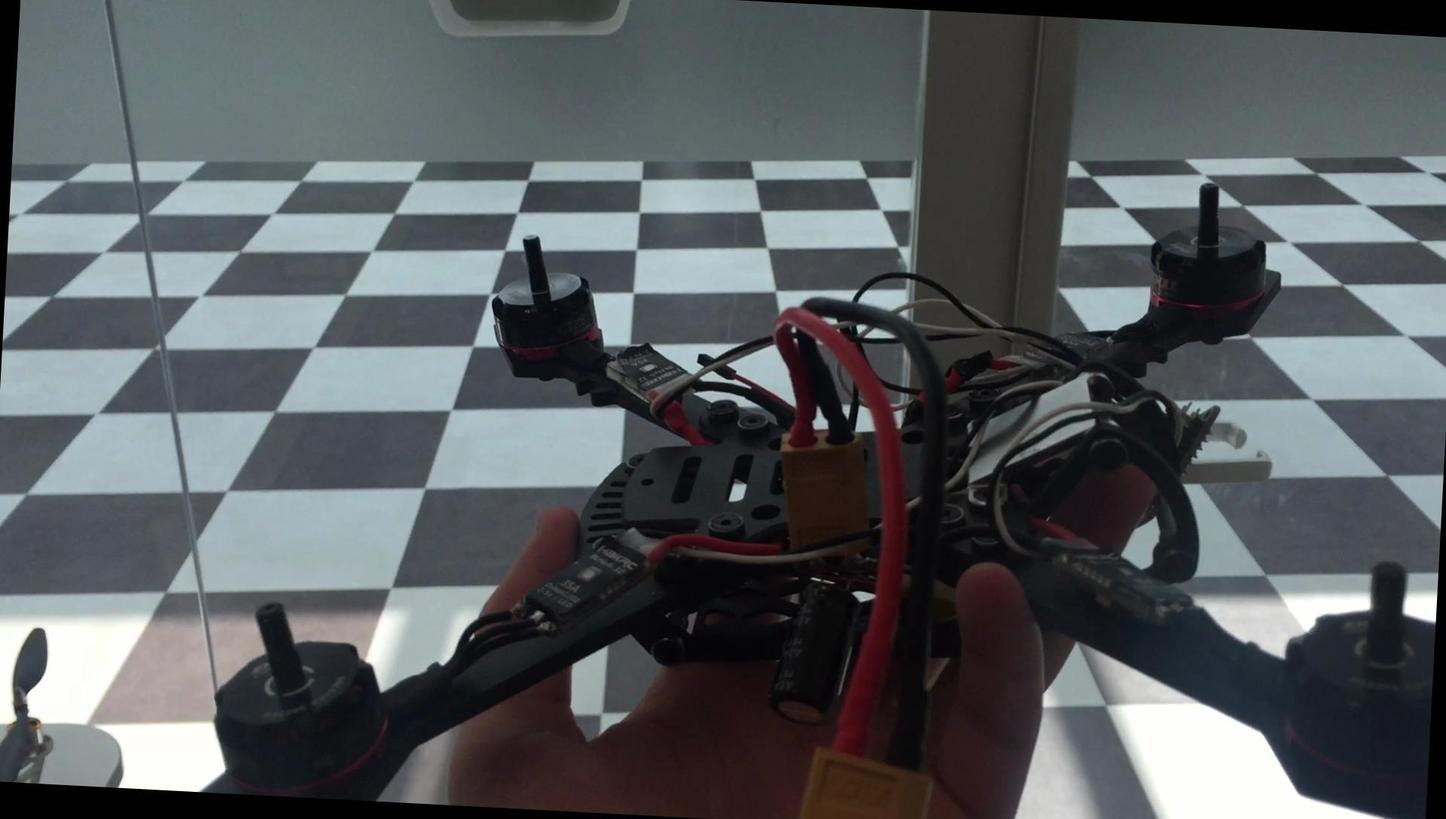drone: (180, 179, 1446, 819)
